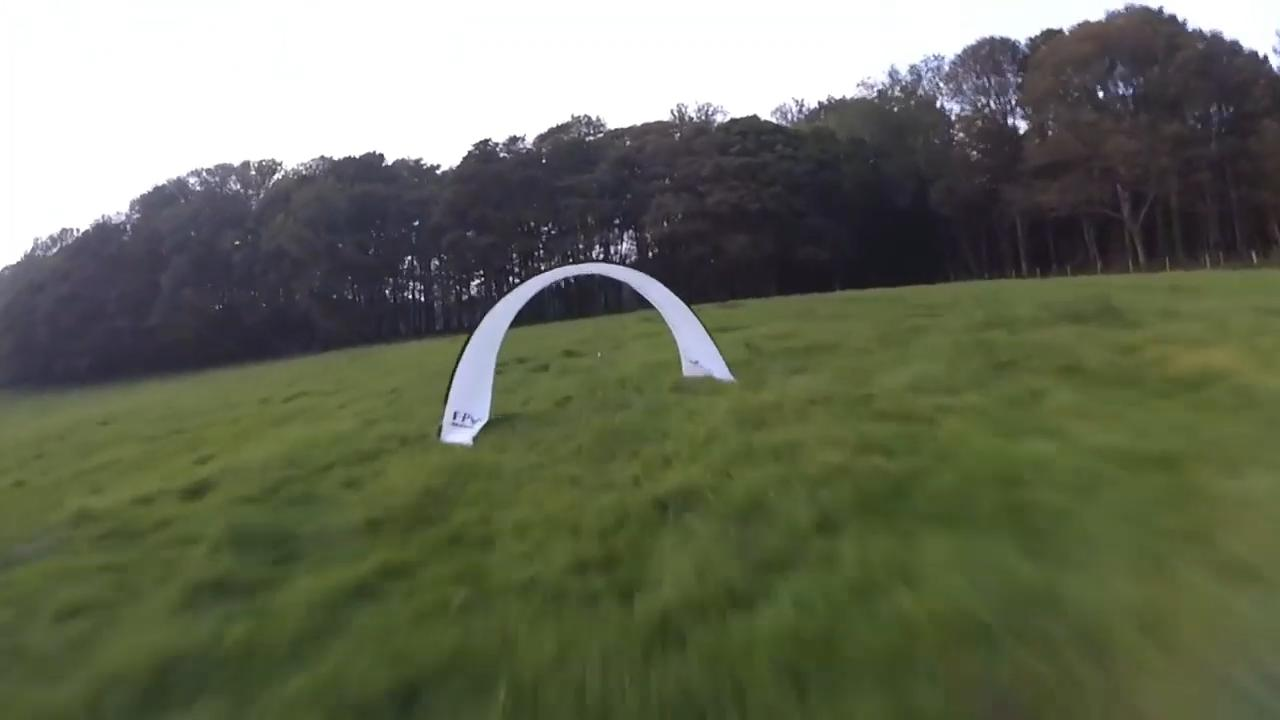gate: (437, 260, 734, 445)
